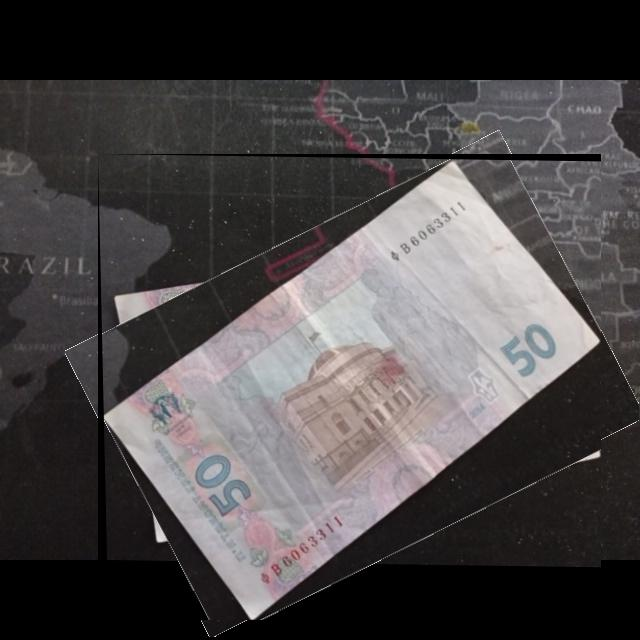50uah: (103, 158, 602, 621)
